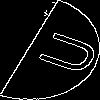U: (25, 25, 100, 78)
